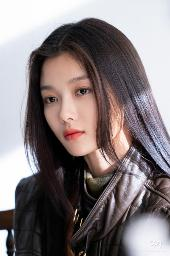face: (42, 58, 120, 152)
